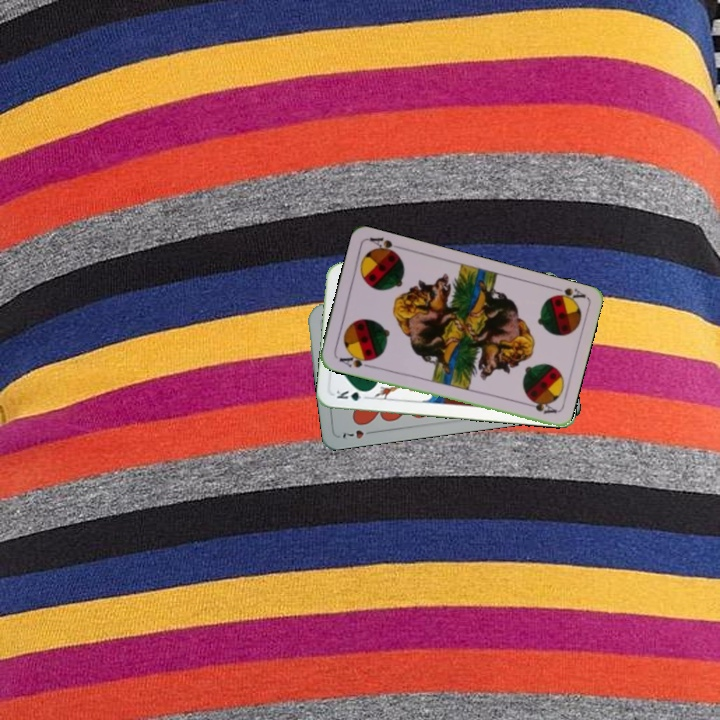GK: (332, 386, 372, 404)
H7: (338, 426, 377, 441)
SA: (547, 283, 588, 306), (335, 350, 374, 370)
